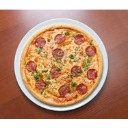pepperonipizza: (22, 25, 103, 104)
